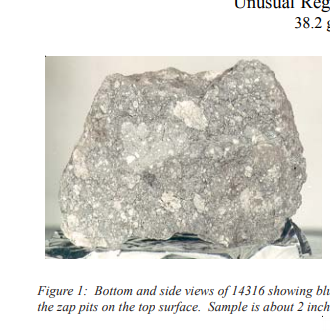Breccia: (64, 46, 320, 270), (138, 123, 260, 192)
